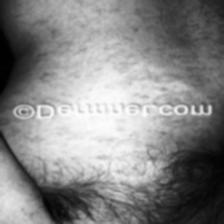Non-Cancerous Skin Condition: (90, 118, 170, 162)
